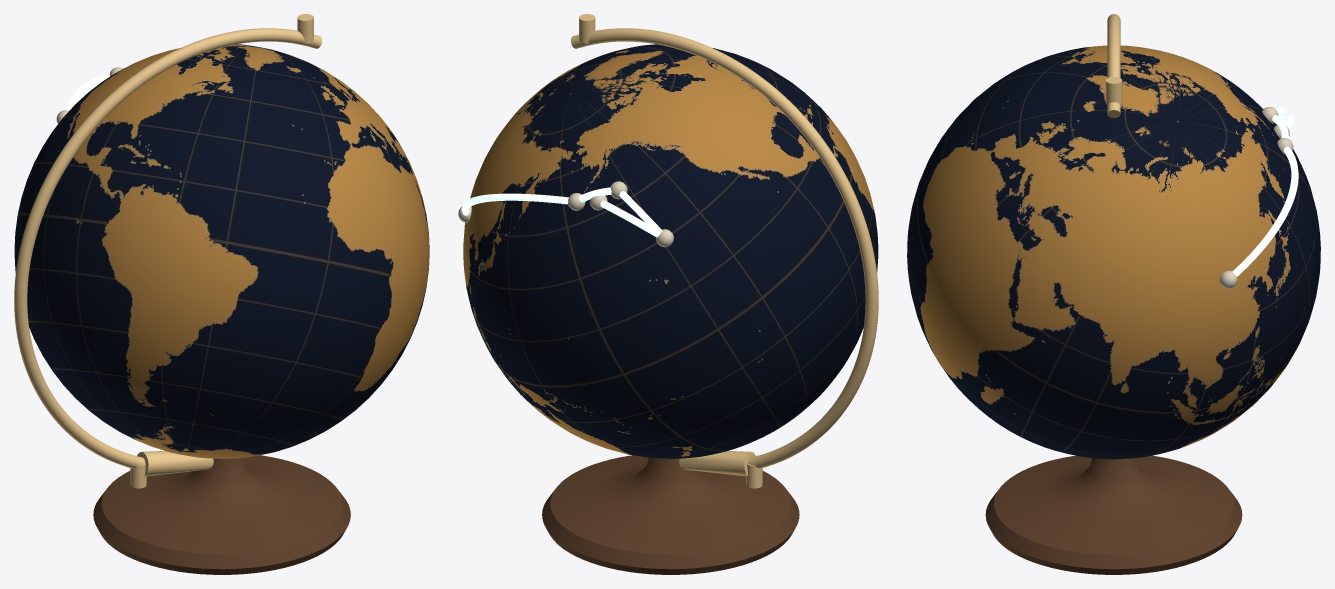
File: globe.glb
3 views of the same model, side by side, from view 1: azimuth 30°, elevation 25°; view 2: azimuth 150°, elevation 25°; view 3: azimuth 270°, elevation 25° (orthographic).
Parts seen in each view (by area): view 1: earth, stand, meridian, post; view 2: earth, stand, meridian, post, arc.003; view 3: earth, stand, arc.003, meridian.
Boxes of the visible parts, box(x1,y1,x2,y2) form: earth: box(14, 44, 429, 458); stand: box(93, 455, 350, 574); meridian: box(14, 28, 321, 468); post: box(137, 450, 213, 476); earth: box(463, 44, 878, 458); stand: box(542, 455, 799, 574); meridian: box(571, 28, 878, 468); post: box(679, 450, 755, 476); arc.003: box(461, 193, 568, 215); earth: box(907, 45, 1320, 459); stand: box(985, 455, 1242, 574); arc.003: box(1232, 146, 1298, 276); meridian: box(1107, 14, 1120, 117).
Bounding box in the file's own units: 1.07 × 1.3 × 0.9994.
Materials: 5 (1 with a texture image).
